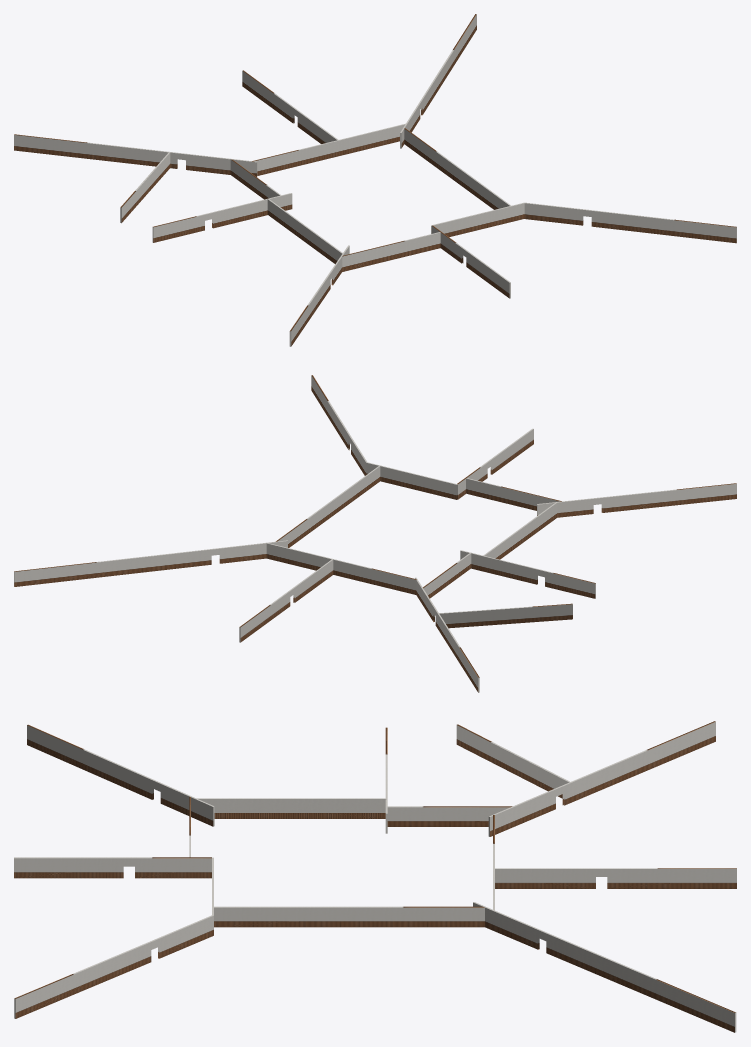
The model's file is Wall1.fbx.
The picture shows the model from 3 angles, top to bottom: view 1: azimuth 30°, elevation 25°; view 2: azimuth 150°, elevation 25°; view 3: azimuth 270°, elevation 25°; orthographic projection. The views are drawn at different scales.
Parts seen in each view (by area): view 1: Wall; view 2: Wall; view 3: Wall.
Part boxes in pixels (x1,y1,x2,y2): Wall: (14,14,736,346); Wall: (14,375,736,692); Wall: (14,721,736,1032).
Size of the model in its own units: 148 by 4.77 by 154.
Materials: 1 (1 with a texture image).
